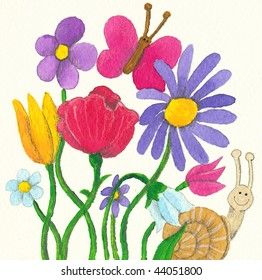flower: (132, 49, 241, 175), (58, 87, 142, 160), (30, 13, 100, 94), (10, 92, 64, 170), (143, 176, 194, 232), (181, 159, 232, 196), (2, 171, 47, 211)
